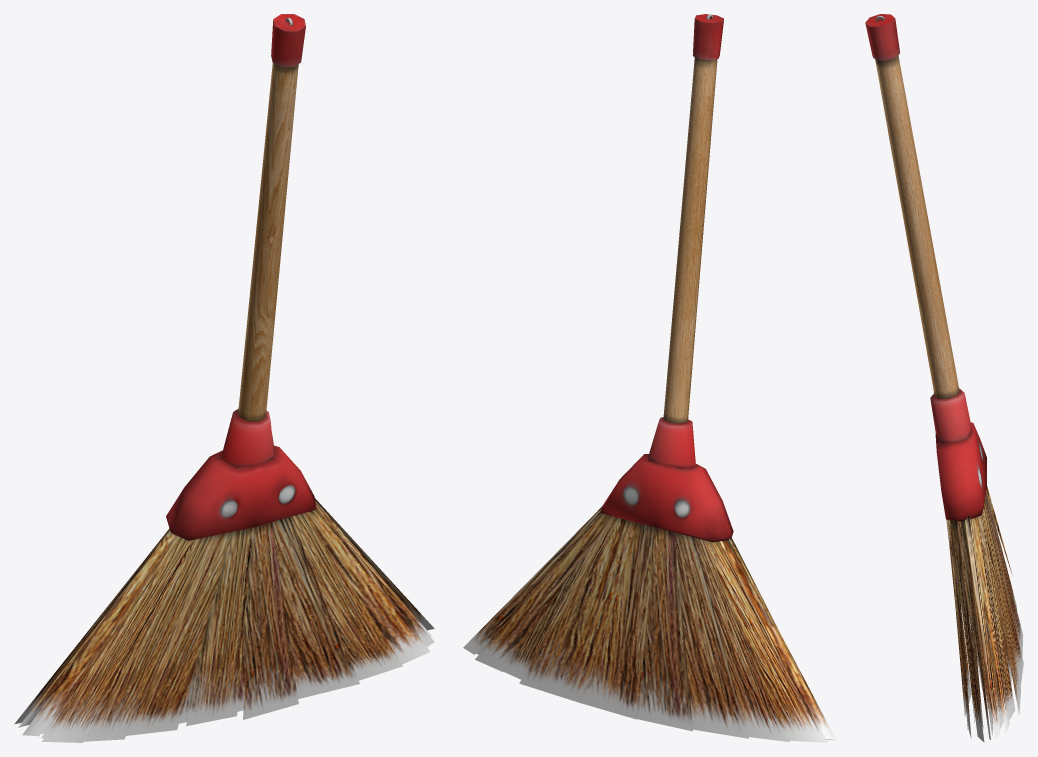
3 renders of one model, left to right at view 1: azimuth 30°, elevation 25°; view 2: azimuth 150°, elevation 25°; view 3: azimuth 270°, elevation 25°, orthographic. The views are drawn at different scales.
Parts seen in each view (by area): view 1: _TZ_LM, _pasted__polySurface143, _pasted__polySurface142, _pasted__polySurface160, _pasted__polySurface141, _pasted__polySurface158, _pasted__polySurface159, _pasted__polySurface144, _pasted__polySurface145, _pasted__polySurface157, _pasted__polySurface135, _pasted__polySurface155 (+5 smaller); view 2: _TZ_LM, _pasted__polySurface150, _pasted__polySurface152, _pasted__polySurface153, _pasted__polySurface151, _pasted__polySurface155, _pasted__polySurface154, _pasted__polySurface148, _pasted__polySurface149, _pasted__polySurface156, _pasted__polySurface147, _pasted__polySurface157 (+1 smaller); view 3: _TZ_LM, _pasted__polySurface149, _pasted__polySurface135, _pasted__polySurface147, _pasted__polySurface148, _pasted__polySurface150, _pasted__polySurface151, _pasted__polySurface146, _pasted__polySurface145, _pasted__polySurface152, _pasted__polySurface143, _pasted__polySurface129 (+4 smaller).
Part boxes in pixels (x1=…): _TZ_LM: x1=166, y1=14, x2=316, y2=540; _pasted__polySurface143: x1=272, y1=517, x2=359, y2=698; _pasted__polySurface142: x1=243, y1=522, x2=298, y2=719; _pasted__polySurface160: x1=126, y1=532, x2=232, y2=735; _pasted__polySurface141: x1=186, y1=527, x2=252, y2=725; _pasted__polySurface158: x1=42, y1=537, x2=196, y2=742; _pasted__polySurface159: x1=84, y1=536, x2=212, y2=741; _pasted__polySurface144: x1=290, y1=513, x2=402, y2=680; _pasted__polySurface145: x1=304, y1=512, x2=430, y2=664; _pasted__polySurface157: x1=22, y1=529, x2=175, y2=736; _pasted__polySurface135: x1=309, y1=508, x2=434, y2=646; _pasted__polySurface155: x1=14, y1=528, x2=169, y2=724; _TZ_LM: x1=600, y1=14, x2=733, y2=542; _pasted__polySurface150: x1=519, y1=518, x2=639, y2=703; _pasted__polySurface152: x1=637, y1=528, x2=692, y2=731; _pasted__polySurface153: x1=674, y1=532, x2=748, y2=738; _pasted__polySurface151: x1=583, y1=523, x2=656, y2=719; _pasted__polySurface155: x1=705, y1=540, x2=827, y2=742; _pasted__polySurface154: x1=692, y1=537, x2=789, y2=741; _pasted__polySurface148: x1=475, y1=514, x2=611, y2=671; _pasted__polySurface149: x1=503, y1=516, x2=621, y2=679; _pasted__polySurface156: x1=719, y1=540, x2=834, y2=738; _pasted__polySurface147: x1=463, y1=505, x2=603, y2=654; _pasted__polySurface157: x1=728, y1=538, x2=836, y2=740; _TZ_LM: x1=865, y1=14, x2=986, y2=521; _pasted__polySurface149: x1=978, y1=512, x2=1014, y2=720; _pasted__polySurface135: x1=951, y1=520, x2=984, y2=742; _pasted__polySurface147: x1=964, y1=515, x2=999, y2=738; _pasted__polySurface148: x1=972, y1=516, x2=1009, y2=734; _pasted__polySurface150: x1=983, y1=501, x2=1020, y2=714; _pasted__polySurface151: x1=984, y1=494, x2=1023, y2=685; _pasted__polySurface146: x1=960, y1=521, x2=990, y2=739; _pasted__polySurface145: x1=950, y1=520, x2=971, y2=738; _pasted__polySurface152: x1=985, y1=493, x2=1022, y2=656; _pasted__polySurface143: x1=948, y1=522, x2=971, y2=716; _pasted__polySurface129: x1=961, y1=533, x2=983, y2=729.
Size of the model in its own units: 8.97 by 15.18 by 3.33.
Materials: 1 (1 with a texture image).
